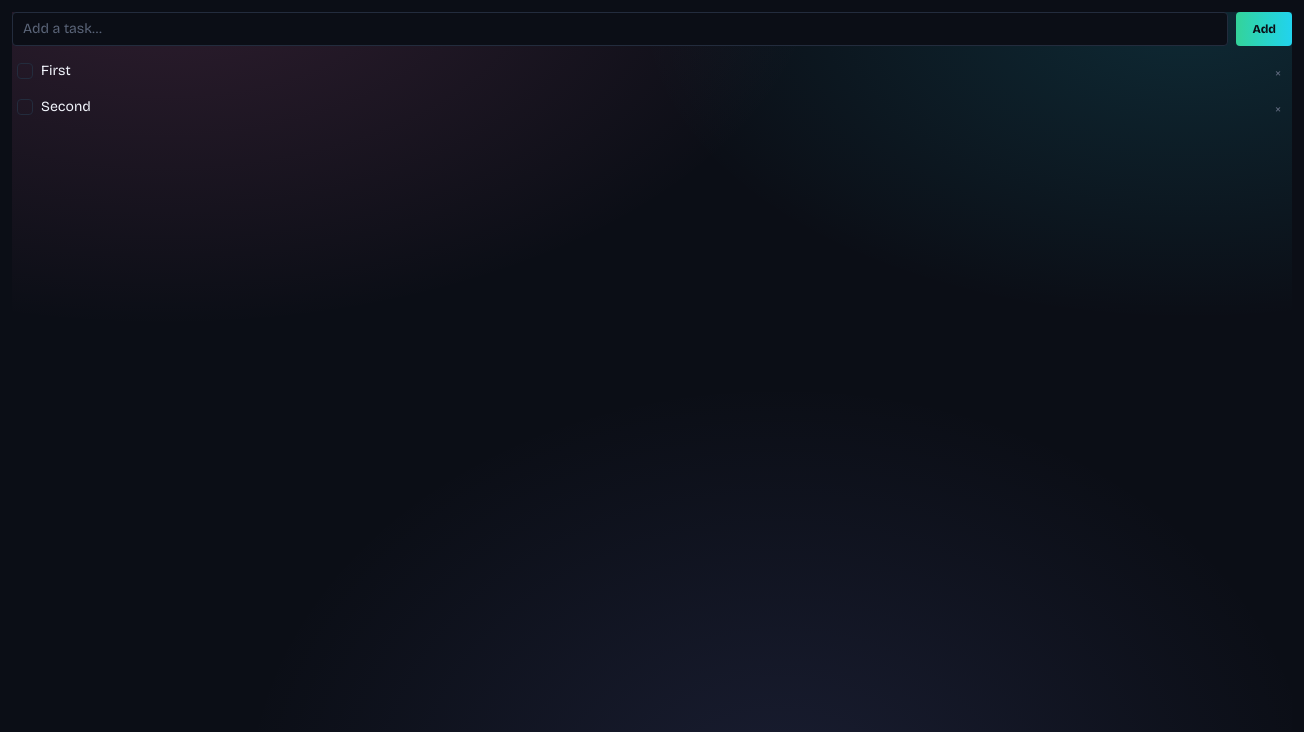
Scenario: deleting a todo › removes the todo from the list
Click the button named "Delete \"First\"".
click(1278, 73)  # box [1271,61,1285,85]
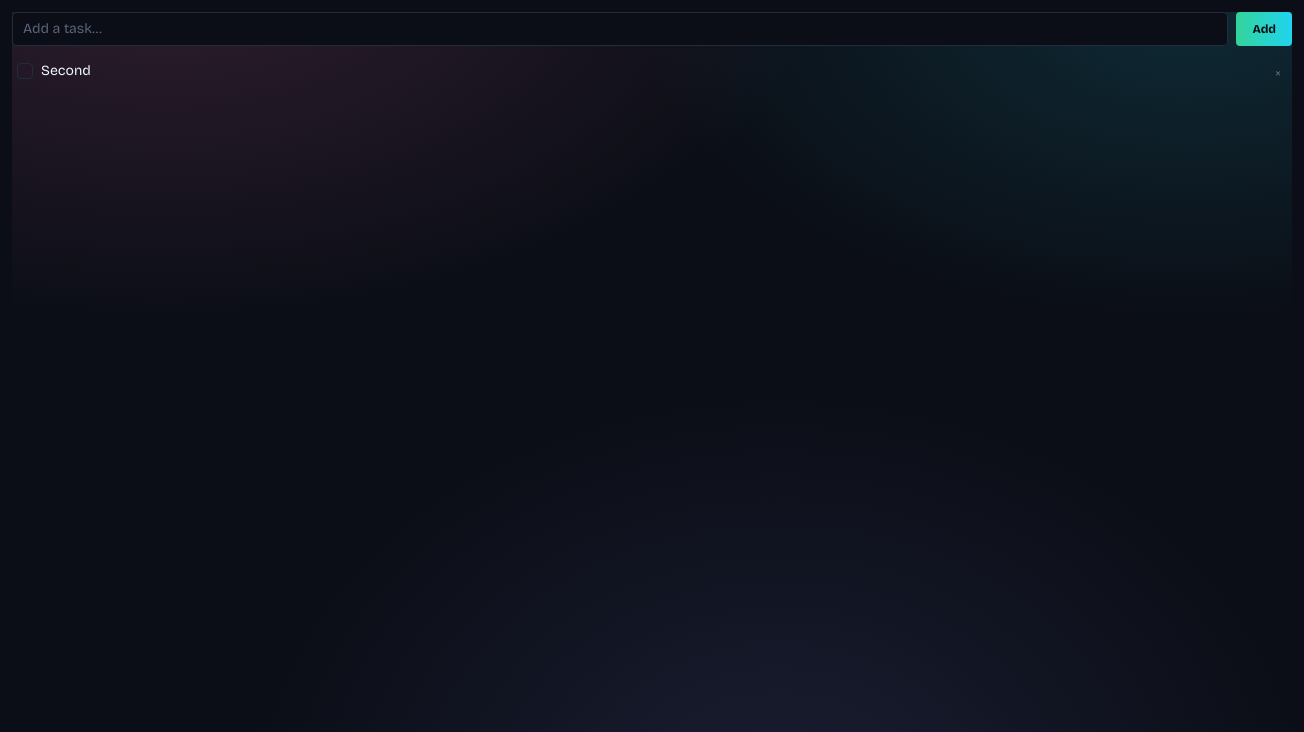
Expected: the button "Second" is shown, [37,59,1267,82]
Expected: the button "First" is gone
